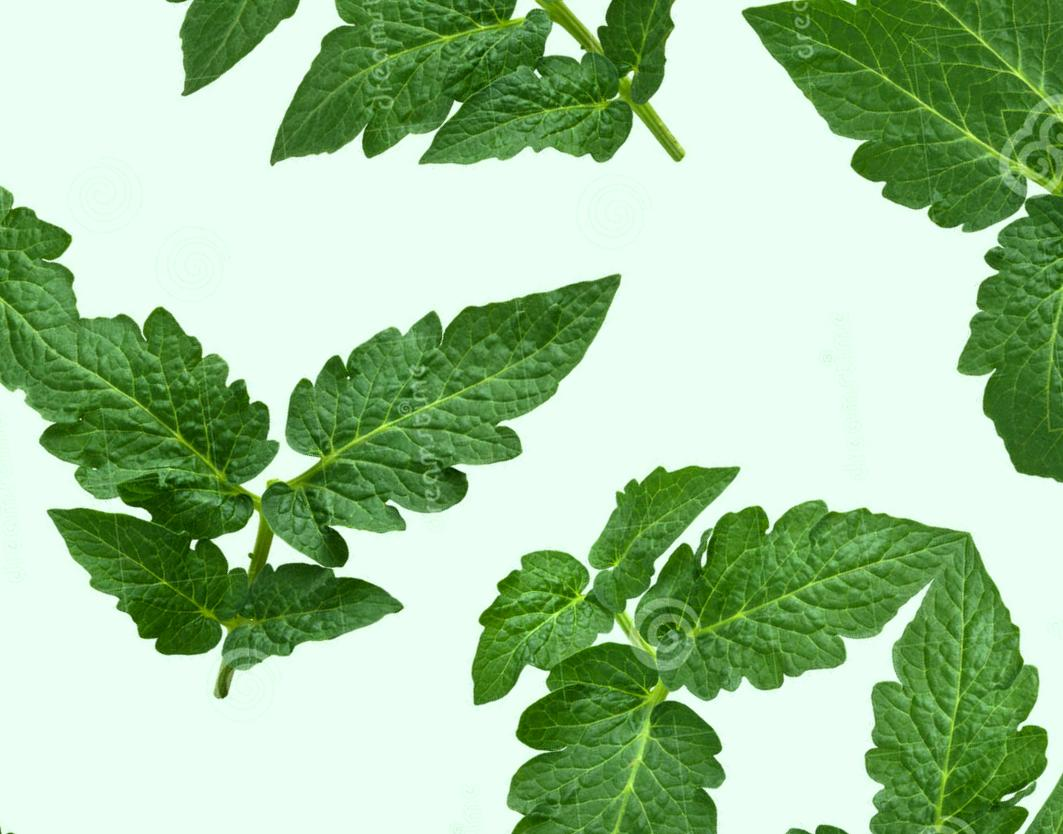Tomato leaf: (219, 129, 691, 630), (606, 362, 991, 763), (693, 0, 1063, 314), (0, 248, 332, 595), (207, 0, 580, 284), (357, 600, 789, 834), (414, 0, 691, 15)
